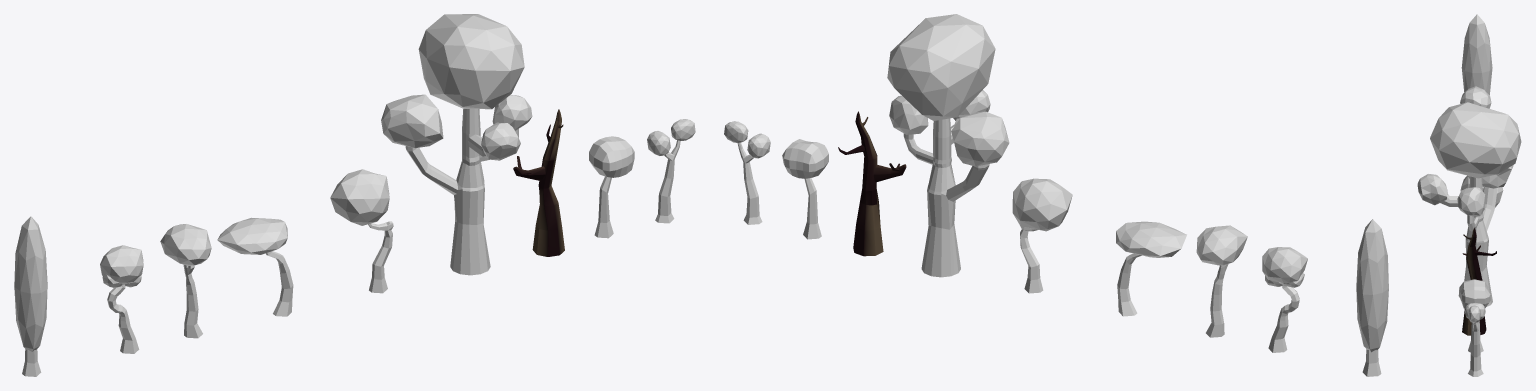
The model's file is novas_arvores.fbx.
3 renders of one model, left to right at view 1: azimuth 30°, elevation 25°; view 2: azimuth 150°, elevation 25°; view 3: azimuth 270°, elevation 25°, orthographic. The views are drawn at different scales.
Parts seen in each view (by area): view 1: Arvore_gigante, Arvore_nova_15, Arvore_nova_11, Arvore Seca_2, Arvore_nova_12, Arvore_nova_13, Arvore_nova_14, Arvore_nova_9, Arvore_nova_10; view 2: Arvore_gigante, Arvore_nova_15, Arvore_nova_11, Arvore Seca_2, Arvore_nova_12, Arvore_nova_13, Arvore_nova_14, Arvore_nova_9, Arvore_nova_10; view 3: Arvore_gigante, Arvore_nova_15, Arvore Seca_2, Arvore_nova_10, Arvore_nova_9, Arvore_nova_14, Arvore_nova_11.
Part boxes in pixels (x1,y1,x2,y2): Arvore_gigante: [381, 14, 532, 275]; Arvore_nova_15: [14, 216, 47, 376]; Arvore_nova_11: [330, 169, 393, 293]; Arvore Seca_2: [513, 109, 564, 256]; Arvore_nova_12: [217, 217, 293, 316]; Arvore_nova_13: [160, 224, 211, 338]; Arvore_nova_14: [100, 245, 143, 353]; Arvore_nova_9: [589, 136, 634, 238]; Arvore_nova_10: [647, 119, 695, 223]; Arvore_gigante: [887, 14, 1009, 277]; Arvore_nova_15: [1356, 219, 1388, 376]; Arvore_nova_11: [1012, 178, 1072, 293]; Arvore Seca_2: [838, 111, 906, 256]; Arvore_nova_12: [1116, 221, 1186, 316]; Arvore_nova_13: [1196, 225, 1247, 337]; Arvore_nova_14: [1262, 247, 1307, 352]; Arvore_nova_9: [782, 139, 828, 239]; Arvore_nova_10: [724, 121, 770, 224]; Arvore_gigante: [1417, 102, 1521, 306]; Arvore_nova_15: [1461, 14, 1492, 95]; Arvore Seca_2: [1462, 227, 1496, 335]; Arvore_nova_10: [1465, 303, 1485, 376]; Arvore_nova_9: [1458, 279, 1490, 352]; Arvore_nova_14: [1460, 86, 1491, 108]; Arvore_nova_11: [1460, 175, 1503, 207].
Size of the model in its own units: 2289 by 809 by 395.
